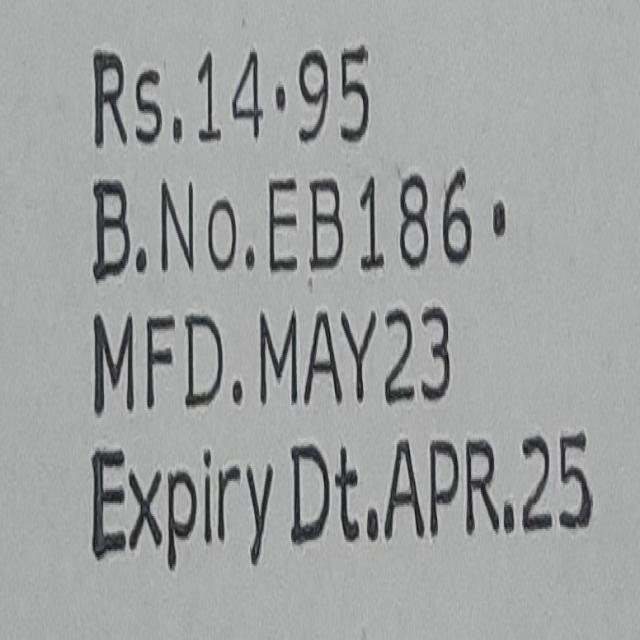sentence: (91, 432, 592, 571), (92, 157, 510, 297), (92, 303, 452, 419), (92, 45, 370, 147)
